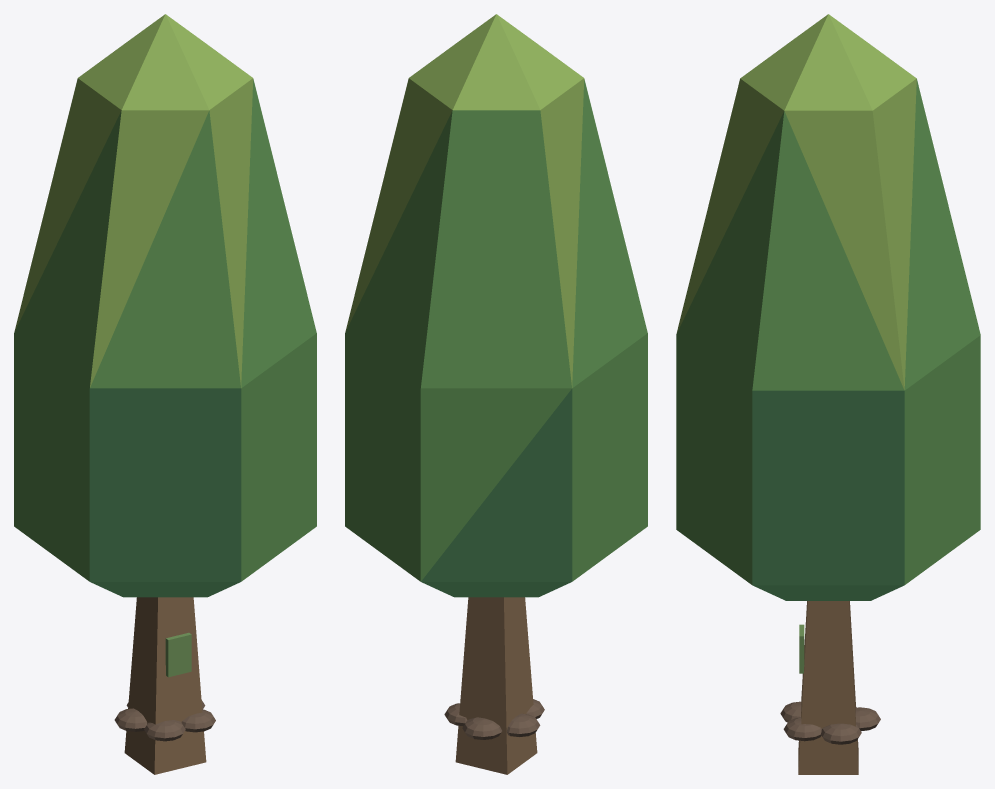
Rendered from tree_small.glb.
The picture shows the model from 3 angles, left to right: view 1: azimuth 30°, elevation 25°; view 2: azimuth 150°, elevation 25°; view 3: azimuth 270°, elevation 25°; orthographic projection.
Visible parts, largest first — view 1: tree_small; view 2: tree_small; view 3: tree_small.
Boxes of the visible parts, box(x1,y1,x2,y2) form: tree_small: box(14, 14, 316, 774); tree_small: box(345, 14, 647, 774); tree_small: box(676, 14, 980, 774).
Bounding box in the file's own units: 0.3546 × 1.11 × 0.4095.
